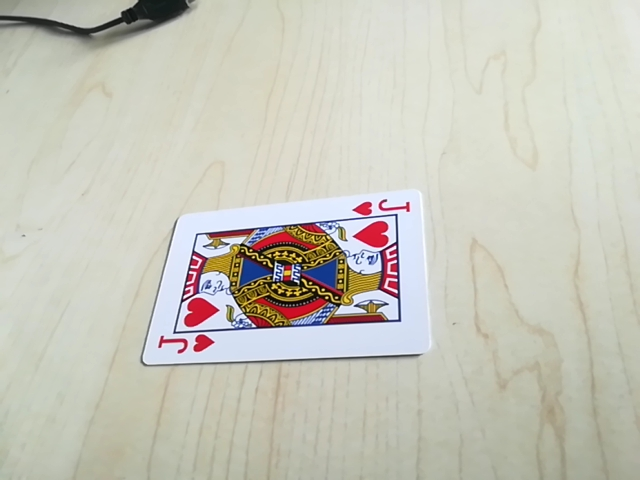hx j: (150, 330, 216, 360), (352, 194, 413, 219)
